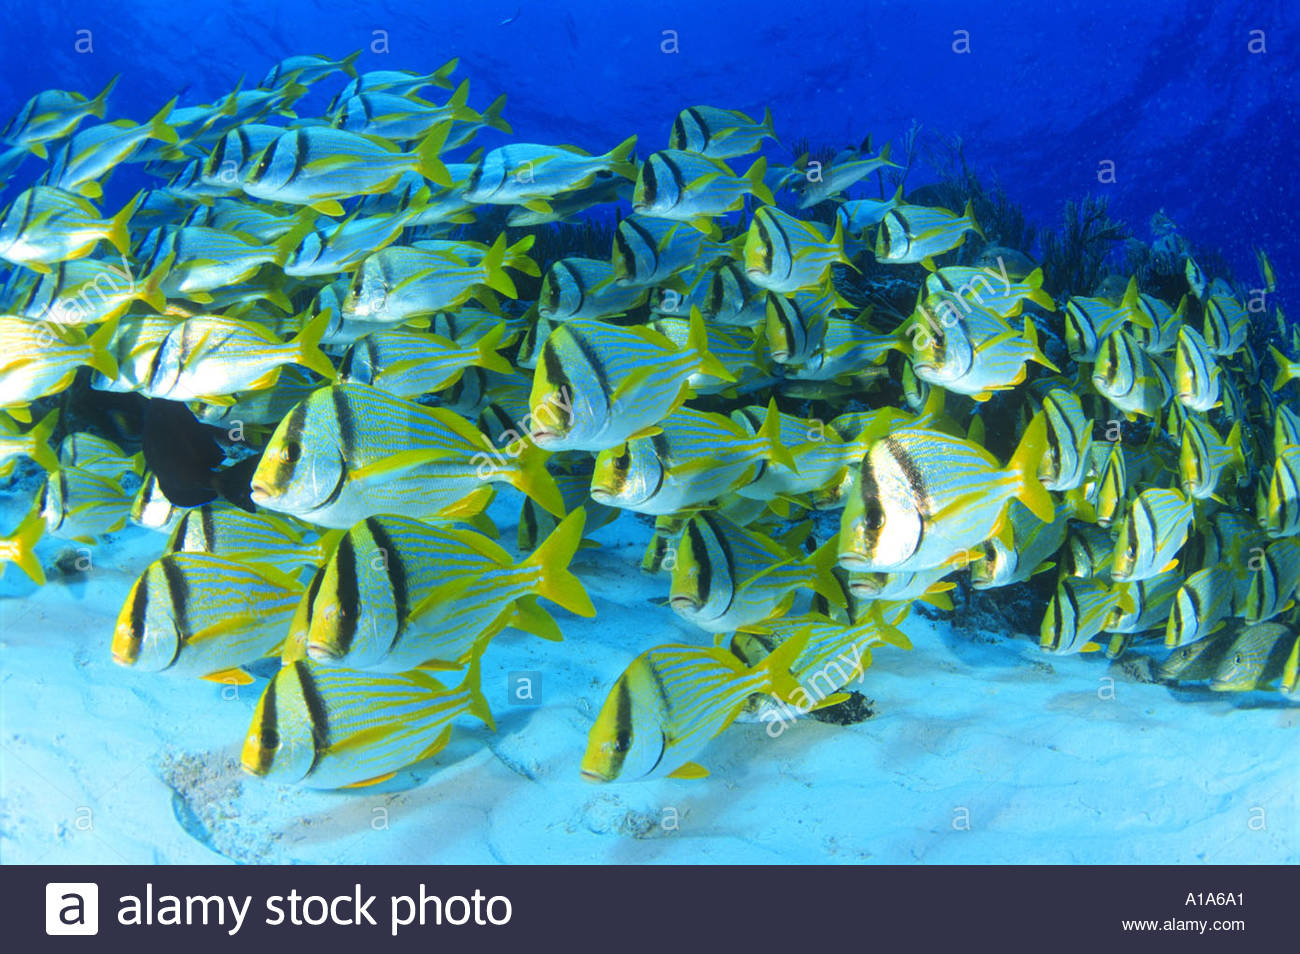fish: (209, 377, 517, 545), (278, 515, 618, 655), (819, 425, 1065, 572), (233, 657, 512, 776), (511, 314, 743, 452), (570, 652, 818, 777), (223, 122, 455, 206), (448, 131, 655, 206), (719, 195, 861, 283), (862, 196, 1010, 267)
